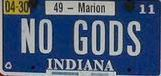placa de veiculo: (2, 0, 159, 74)
